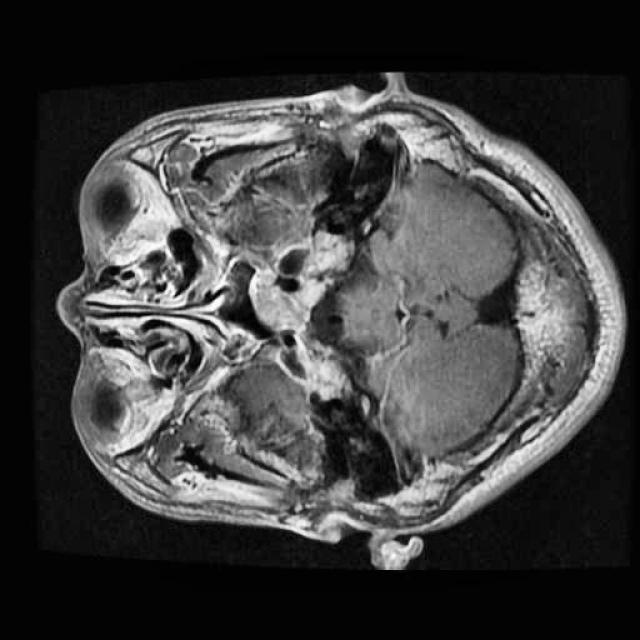Tumor: (243, 258, 336, 344)
